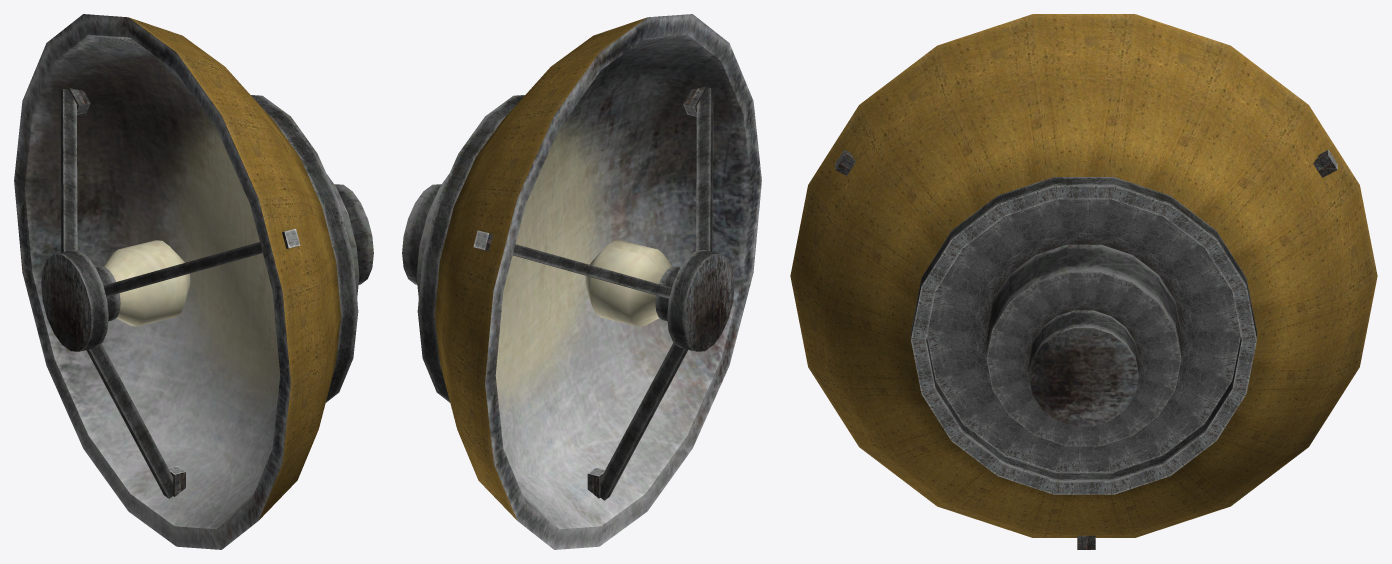
Rendered from reactor_lamp.DAE.
The picture shows the model from 3 angles, left to right: view 1: azimuth 30°, elevation 25°; view 2: azimuth 150°, elevation 25°; view 3: azimuth 270°, elevation 25°; orthographic projection. The views are drawn at different scales.
Visible parts, largest first — view 1: lamp; view 2: lamp; view 3: lamp.
Part boxes in pixels (bbox=[...]): lamp: bbox=[14, 14, 373, 549]; lamp: bbox=[402, 14, 761, 549]; lamp: bbox=[790, 14, 1377, 549].
Size of the model in its own units: 0.5073 by 0.8642 by 0.8511.
